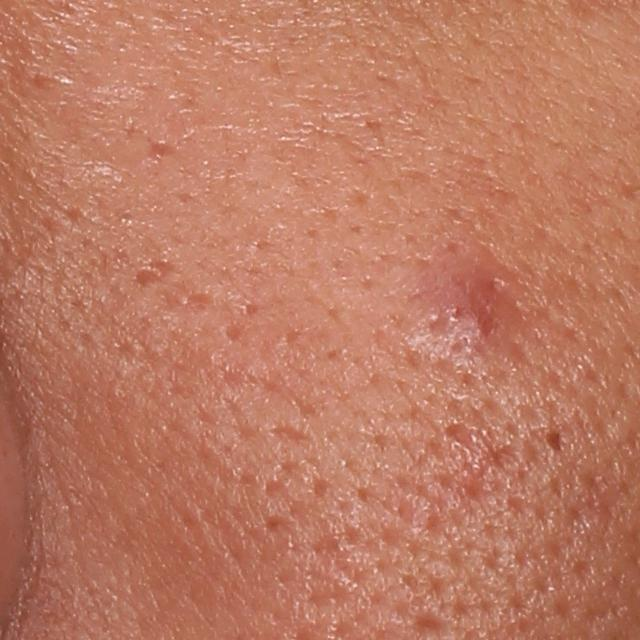atrophic_scar: (131, 257, 171, 289), (149, 139, 182, 161), (224, 319, 244, 343)
